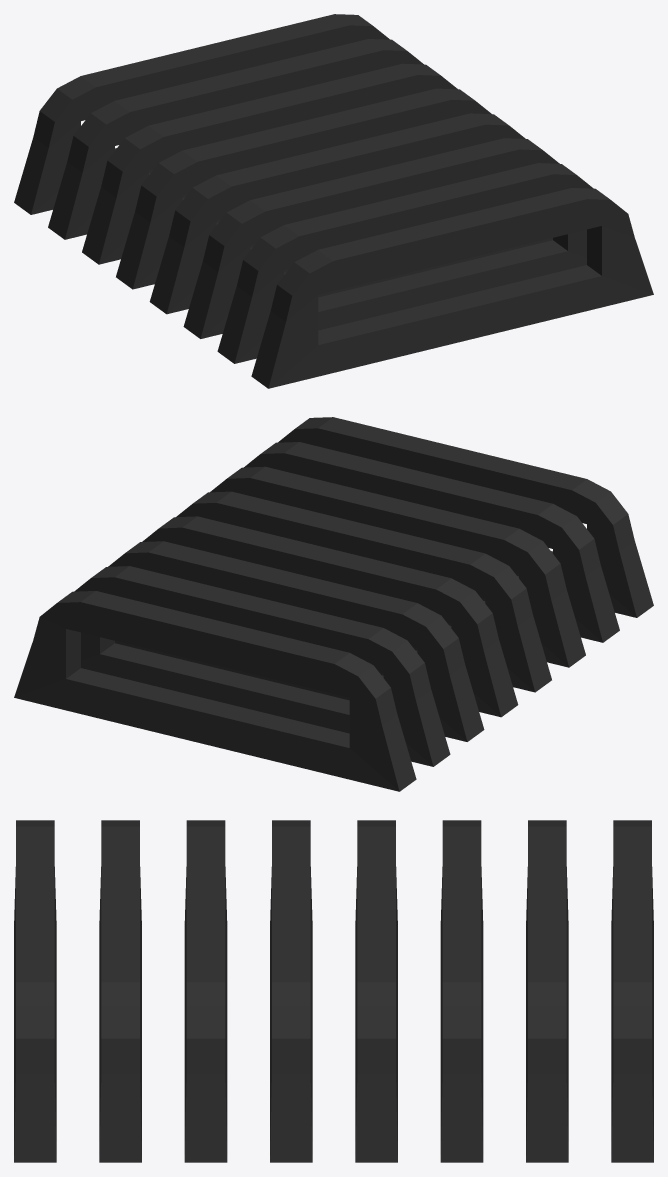
File: lowtunnel.fbx
3 renders of one model, top to bottom at view 1: azimuth 30°, elevation 25°; view 2: azimuth 150°, elevation 25°; view 3: azimuth 270°, elevation 25°, orthographic. The views are drawn at different scales.
Visible parts, largest first — view 1: lowtunnel; view 2: lowtunnel; view 3: lowtunnel.
Boxes of the visible parts, <box> form: lowtunnel: <box>14,14,653,388</box>; lowtunnel: <box>14,417,653,791</box>; lowtunnel: <box>14,820,653,1162</box>.
Size of the model in its own units: 38.37 by 43.84 by 10.57.
